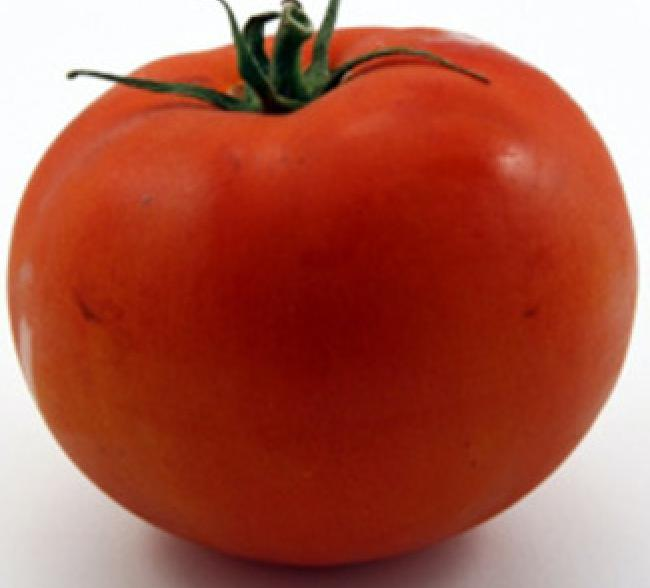tomato: (13, 32, 626, 564)
